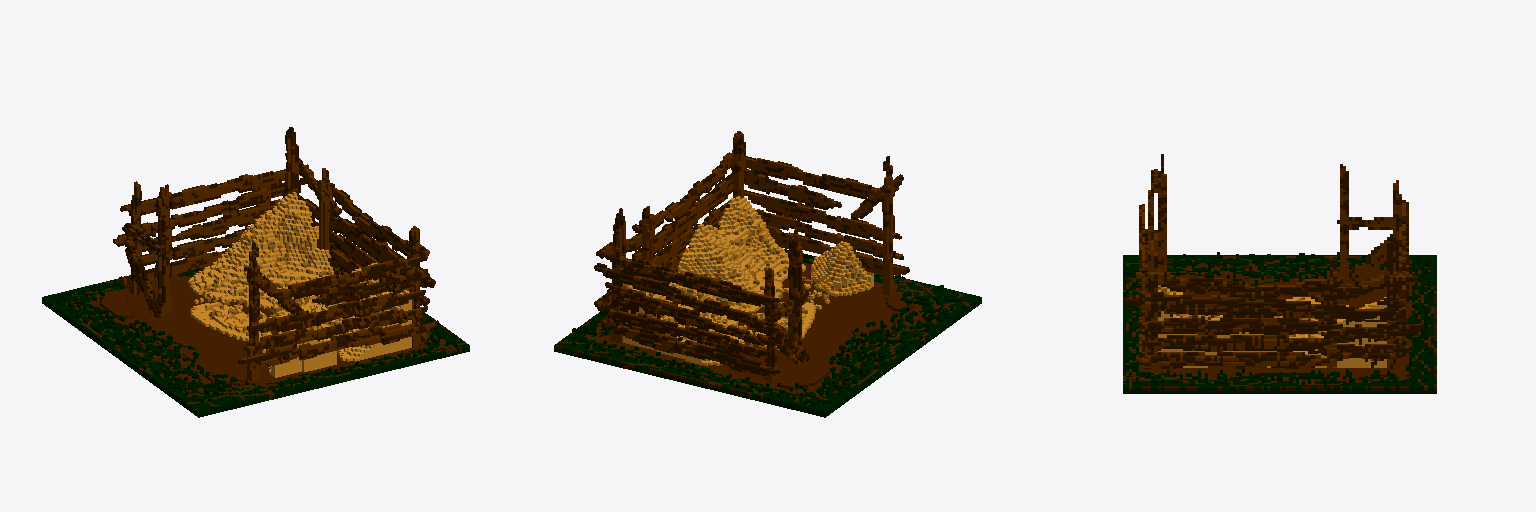
3 renders of one model, left to right at view 1: azimuth 30°, elevation 25°; view 2: azimuth 150°, elevation 25°; view 3: azimuth 270°, elevation 25°, orthographic.
Parts seen in each view (by area): view 1: object 1; view 2: object 1; view 3: object 1.
Part boxes in pixels (left/top/right/bottom): object 1: left=42, top=127, right=469, bottom=417; object 1: left=554, top=131, right=981, bottom=417; object 1: left=1123, top=154, right=1436, bottom=393.
Size of the model in its own units: 10 by 5 by 10.
1 materials, 1 textured.